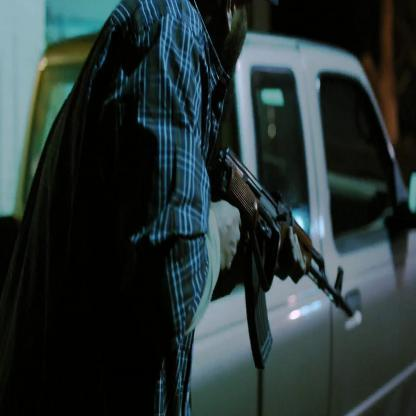gun: (212, 112, 364, 325)
